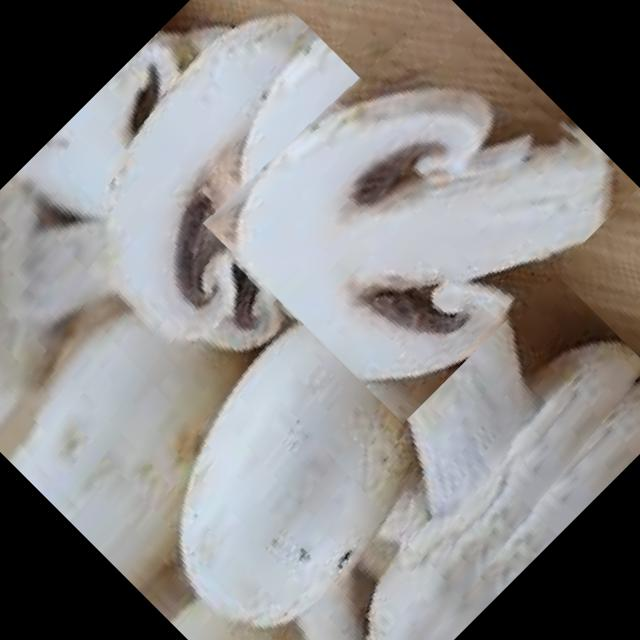Organic: (0, 0, 640, 640), (201, 0, 638, 422)
